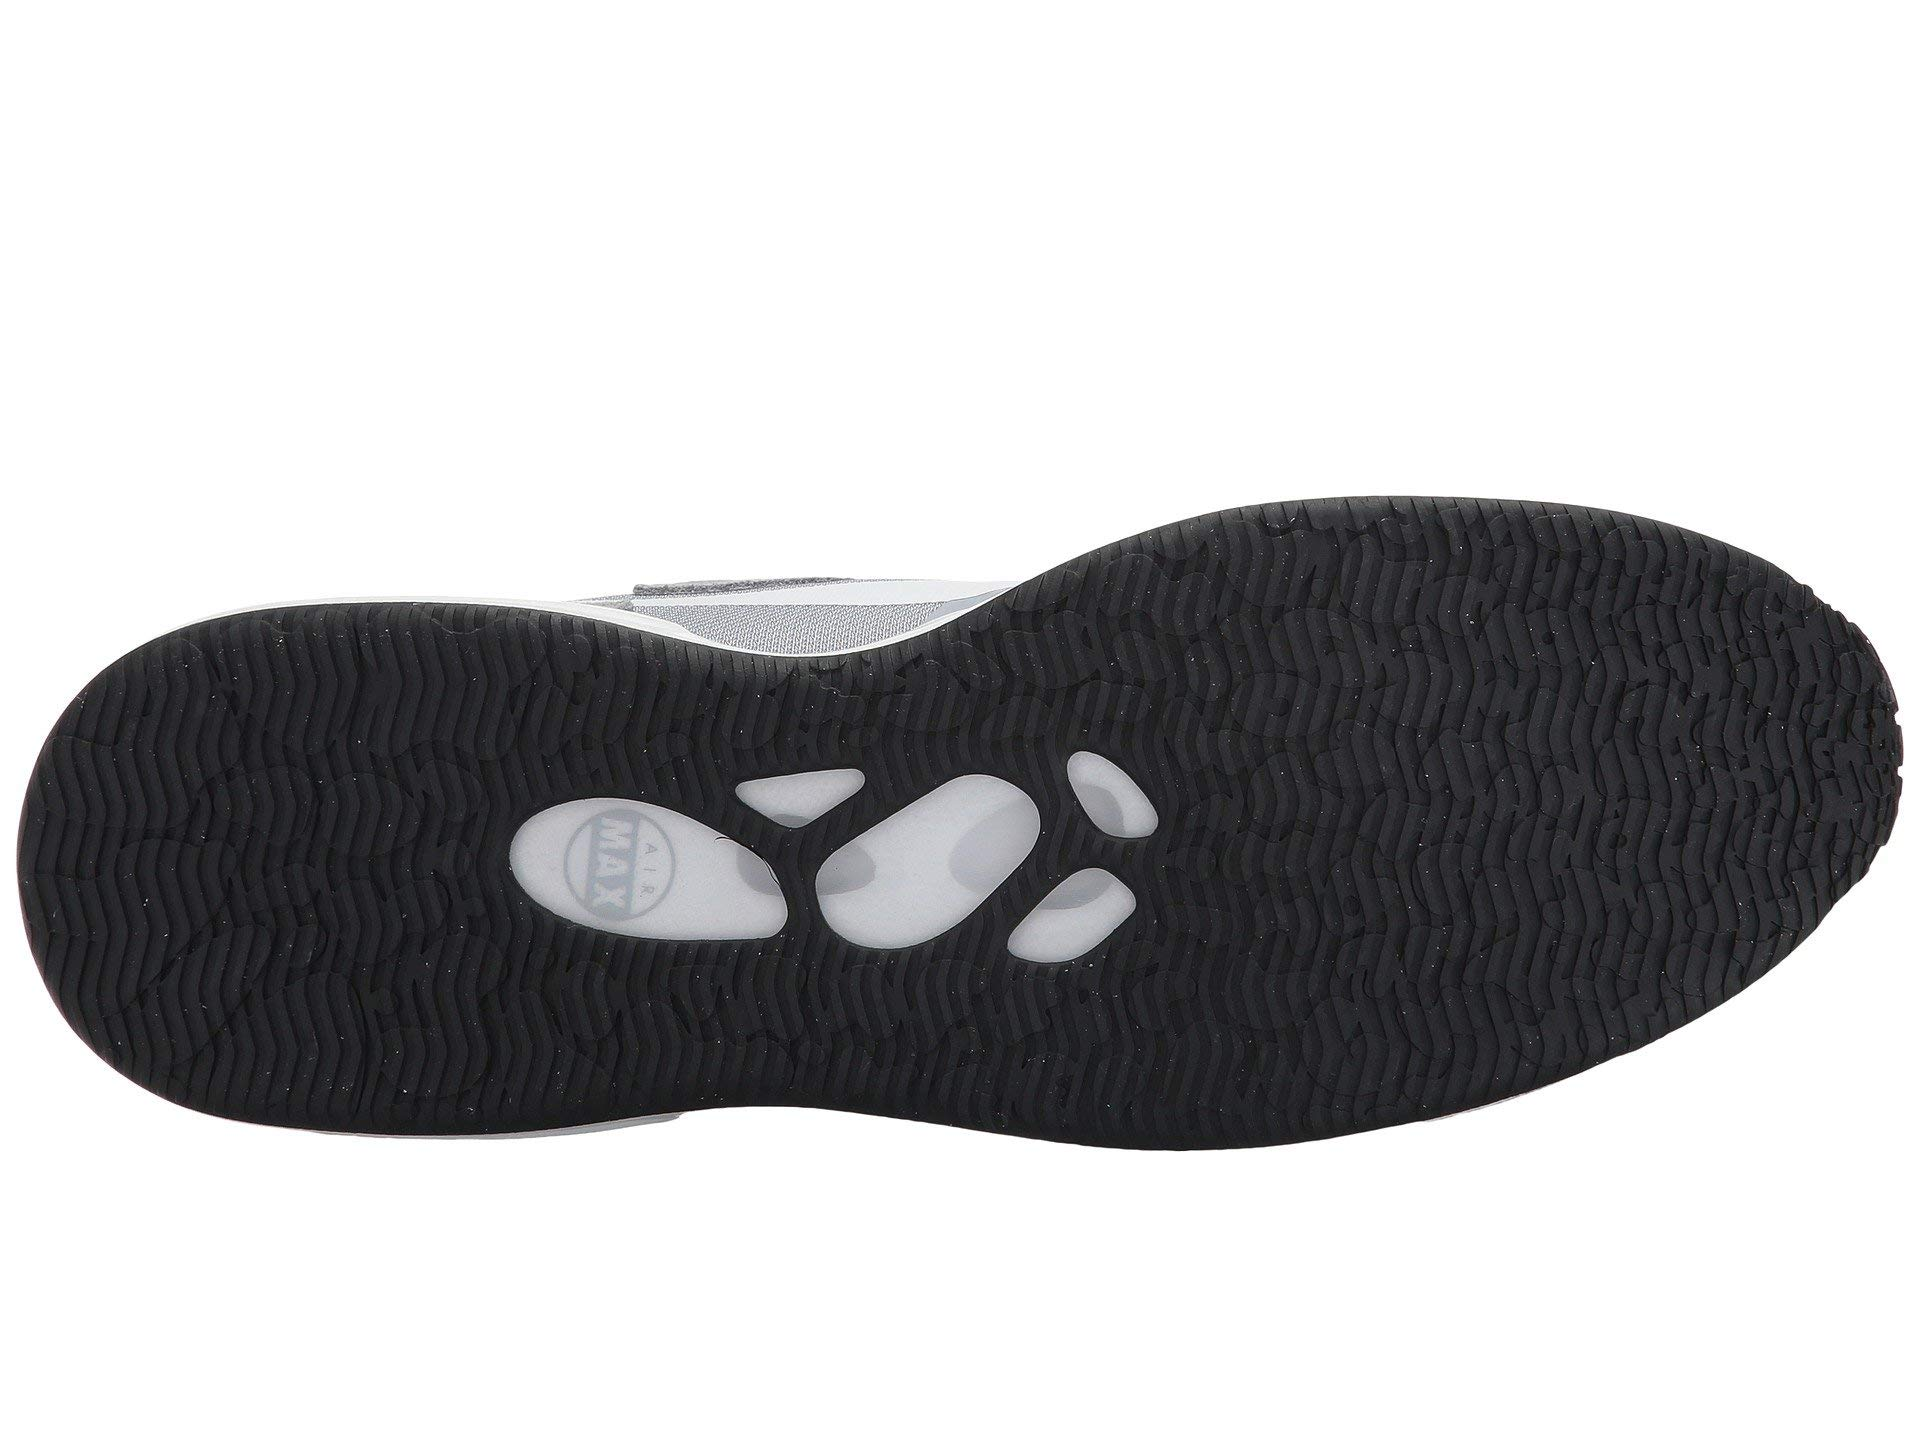circle: (1222, 538, 1773, 965), (162, 666, 482, 973), (547, 811, 698, 927)
line: (1222, 538, 1773, 965), (162, 666, 482, 973), (683, 714, 906, 821)
quad: (547, 811, 698, 927)
text: (547, 811, 698, 927)
triangle: (683, 714, 906, 821)
